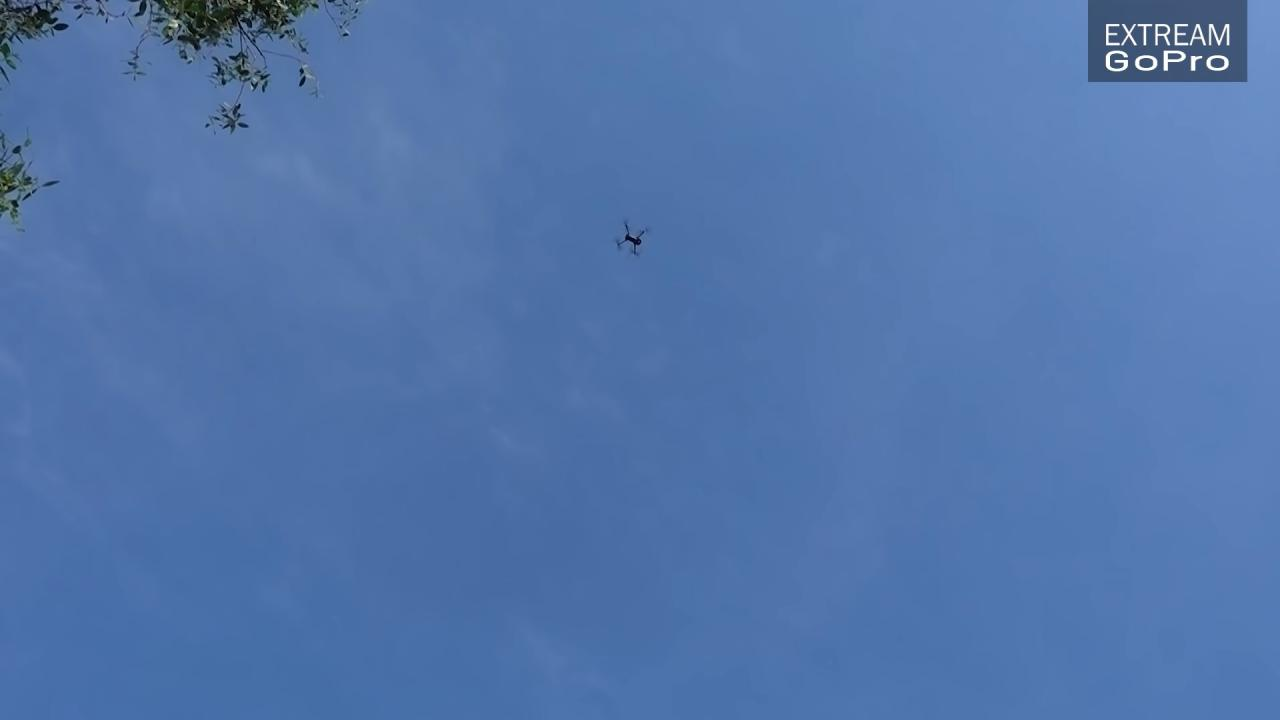Drone: (603, 214, 659, 265)
